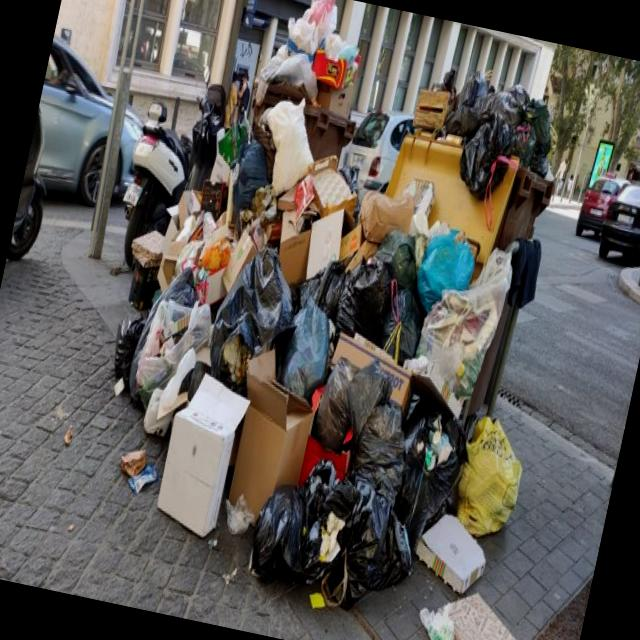garbage: (31, 4, 570, 613)
